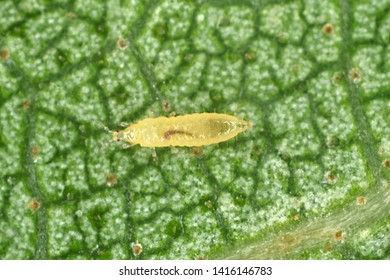Thrips: (111, 112, 265, 157)
